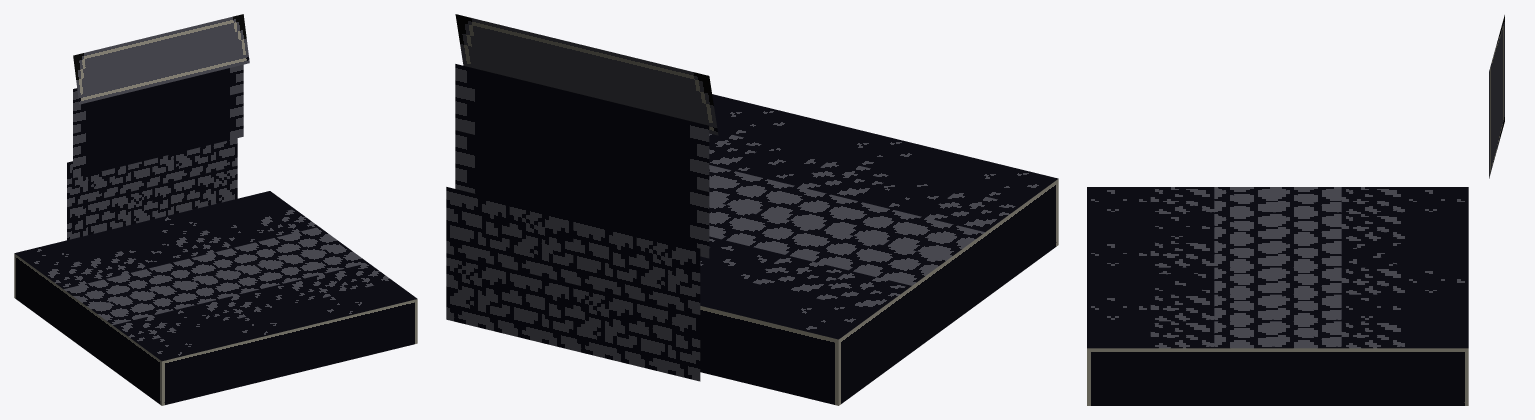
3 views of the same model, side by side, from view 1: azimuth 30°, elevation 25°; view 2: azimuth 150°, elevation 25°; view 3: azimuth 270°, elevation 25° (orthographic). The views are drawn at different scales.
Visible parts, largest first — view 1: Cube; view 2: Cube; view 3: Cube.
Part boxes in pixels (left/top/right/bottom): Cube: left=14, top=14, right=417, bottom=405; Cube: left=446, top=14, right=1058, bottom=405; Cube: left=1087, top=15, right=1504, bottom=405.
Bounding box in the file's own units: 6 × 4.8 × 6.82.
2 materials, 2 textured.
